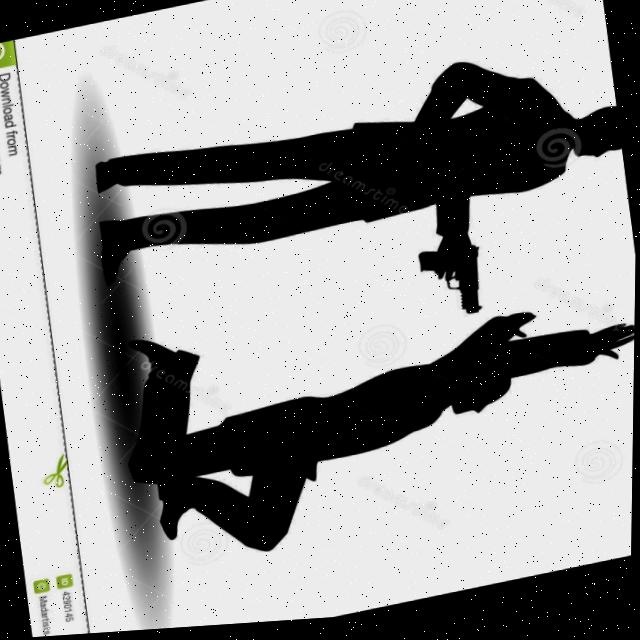pistol: (418, 246, 490, 329)
